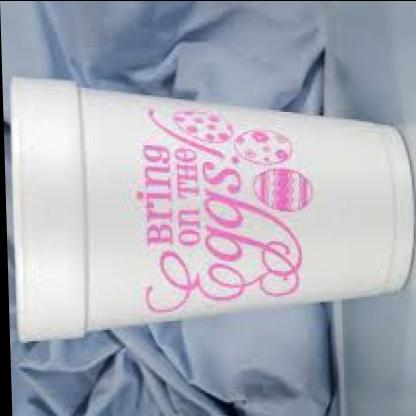Plastic: (4, 72, 416, 348)
